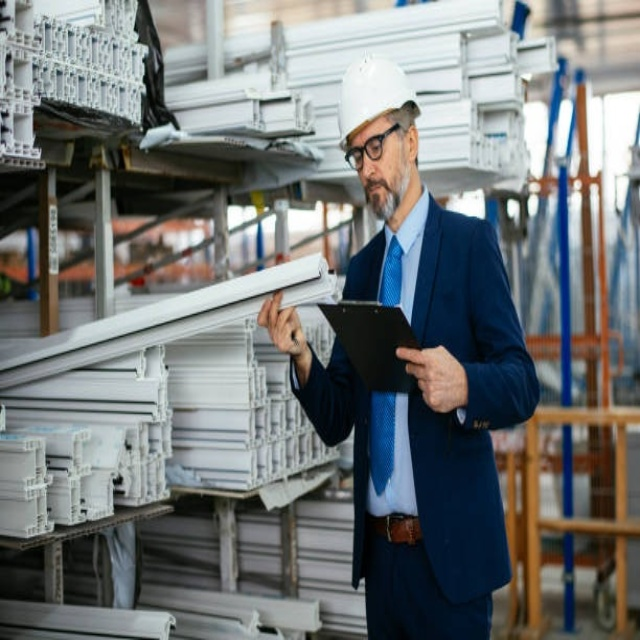Gafas: (344, 124, 402, 173)
Sin_guantes: (397, 343, 466, 415), (257, 287, 308, 359)
Sin_mascara: (360, 174, 394, 207)
